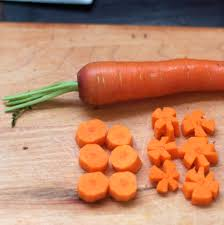carrot: (69, 53, 224, 110)
